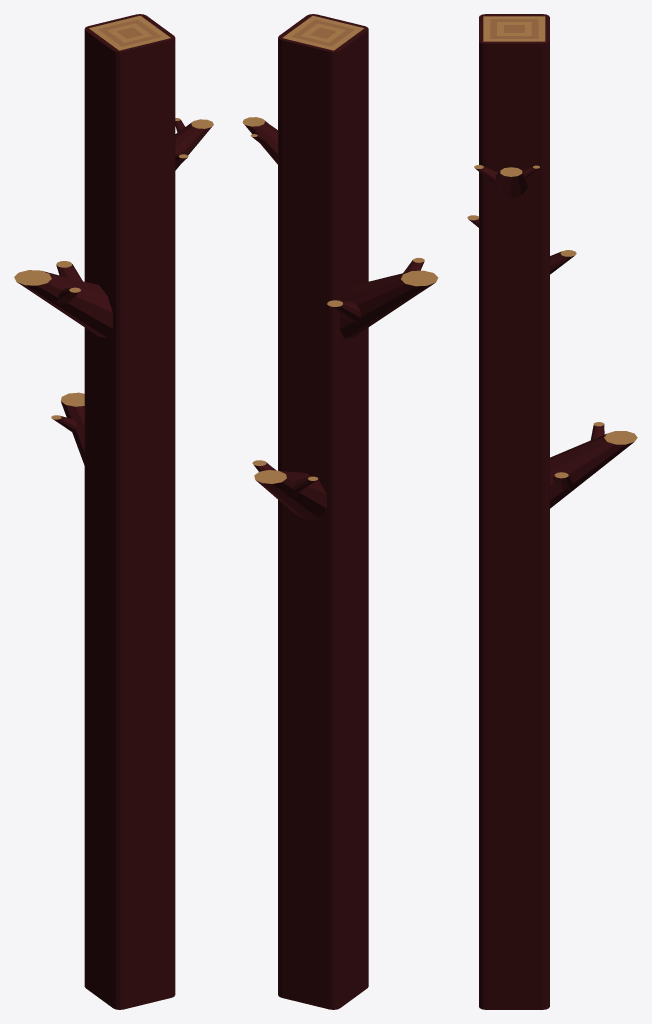
File: Platform_tree.fbx
3 renders of one model, left to right at view 1: azimuth 30°, elevation 25°; view 2: azimuth 150°, elevation 25°; view 3: azimuth 270°, elevation 25°, orthographic.
Parts seen in each view (by area): view 1: Cube, Cylinder.001; view 2: Cube, Cylinder.001; view 3: Cube, Cylinder.001.
Part boxes in pixels (left/top/right/bottom): Cube: left=84, top=14, right=175, bottom=1009; Cylinder.001: left=14, top=118, right=213, bottom=465; Cube: left=278, top=14, right=368, bottom=1009; Cylinder.001: left=242, top=117, right=438, bottom=519; Cube: left=479, top=14, right=549, bottom=1009; Cylinder.001: left=467, top=165, right=637, bottom=508.
Size of the model in its own units: 636 by 3000 by 480.
